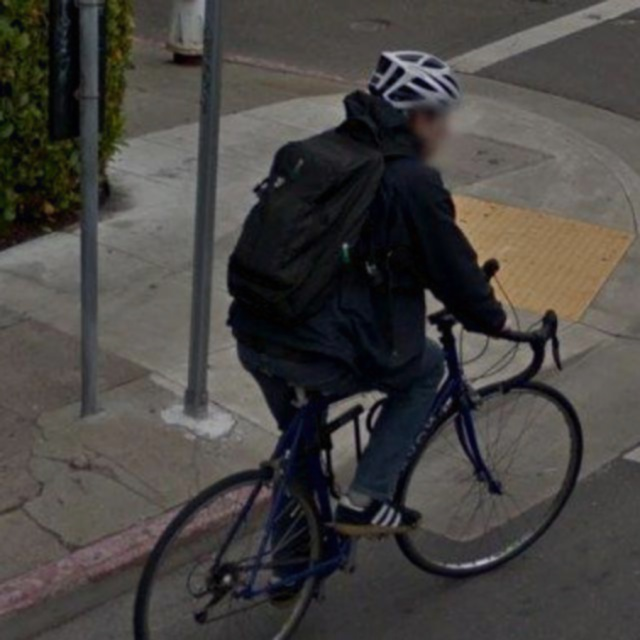bicycle: (64, 245, 618, 640)
